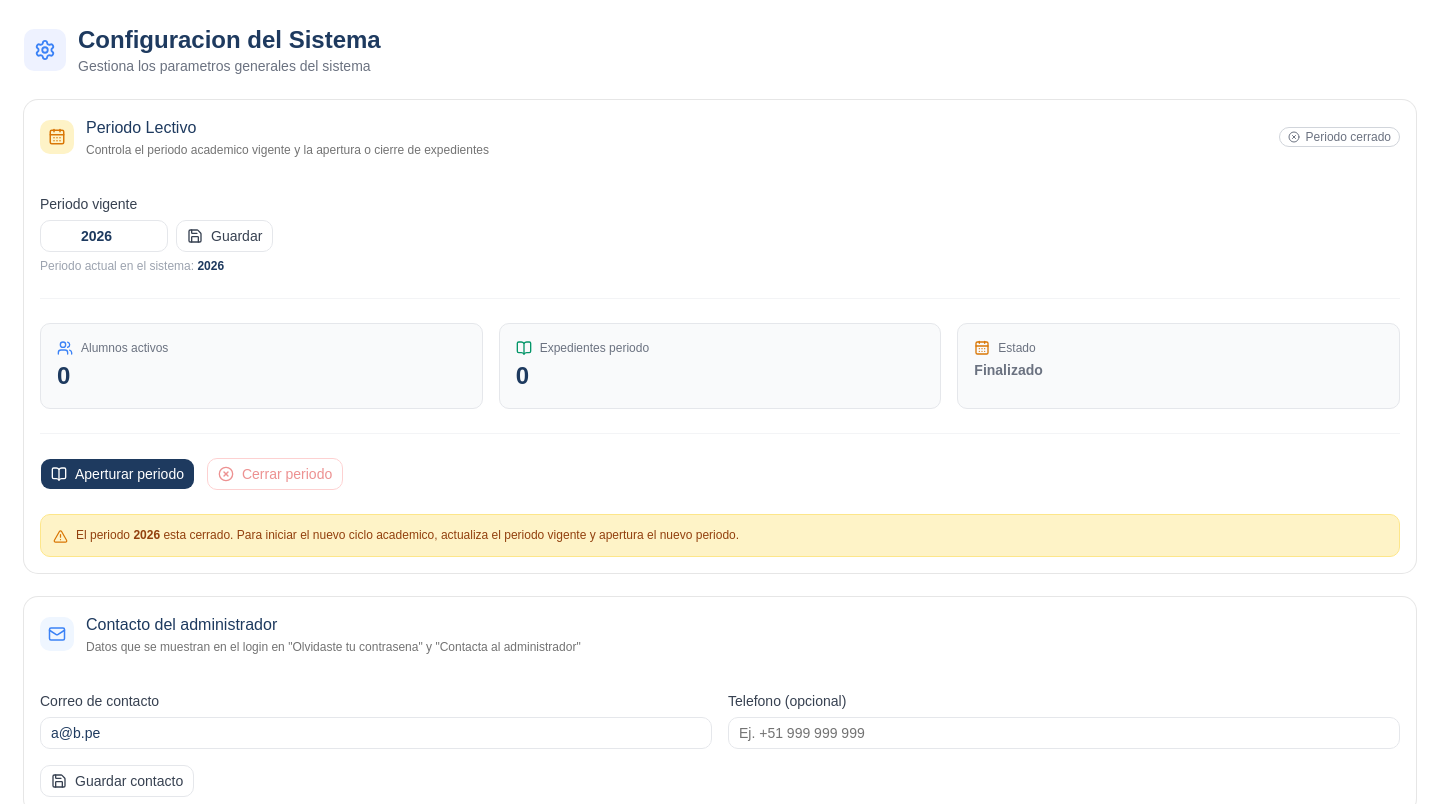
Test: AdminConfig — apertura reporta los omitidos › avisa cuando algunos alumnos quedaron afuera
Click the button "Aperturar periodo": (118, 474) [40,458,195,490]
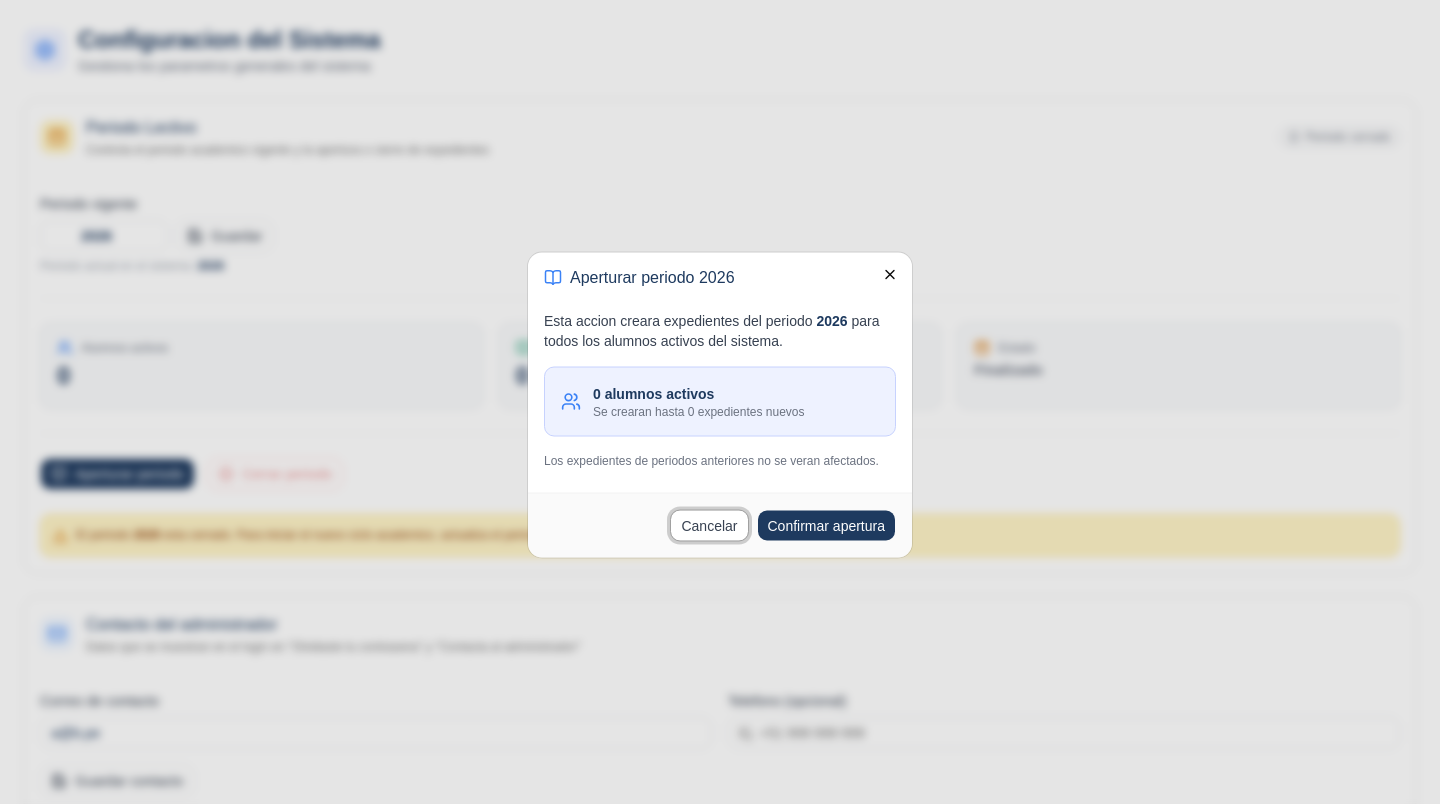
Click the button "Confirmar apertura": (826, 526) [756,510,896,542]
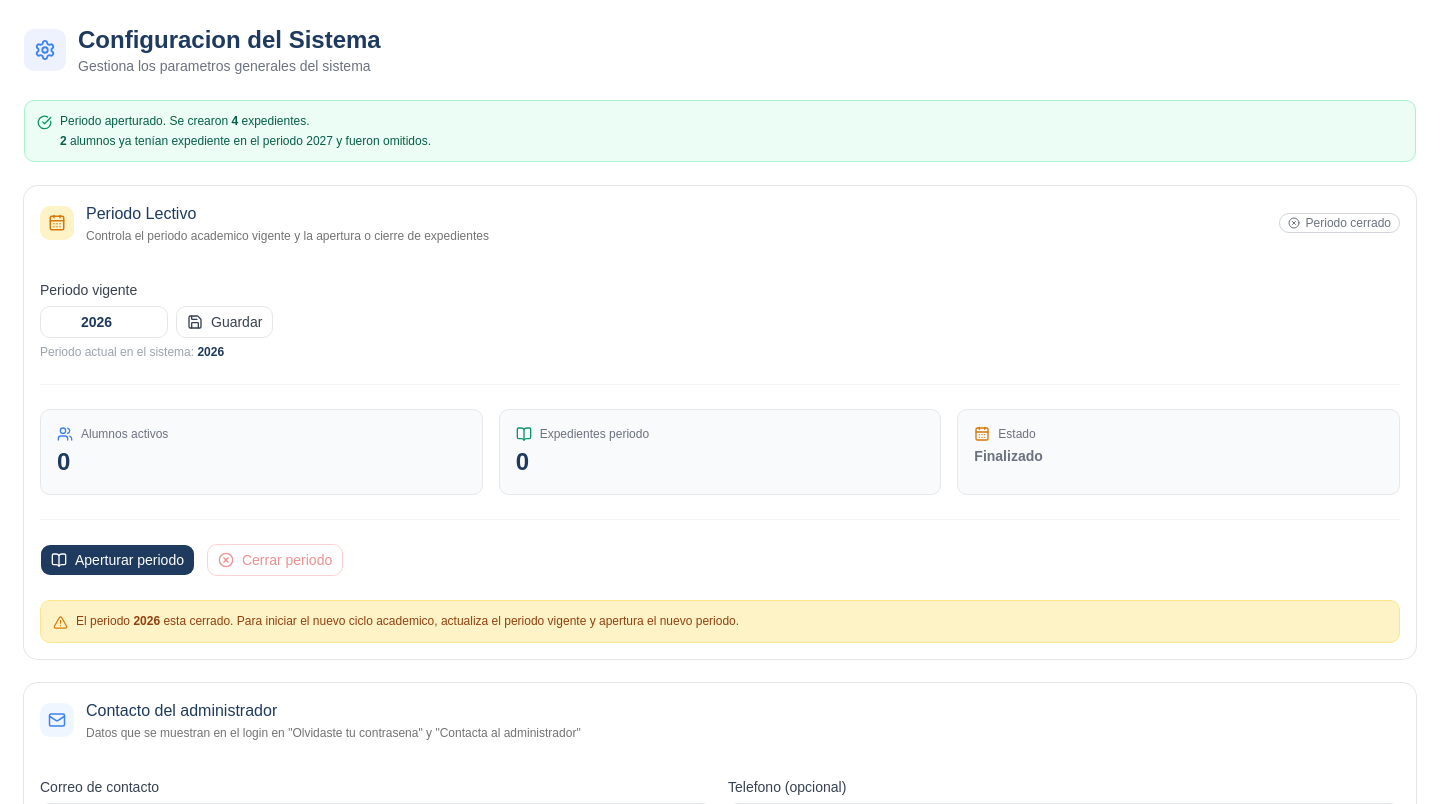
Now the text "Periodo aperturado. Se crearon 4 expedientes." is shown, box [60,114,310,128]
Now the text "alumnos ya tenían" is shown, box [70,134,168,148]
Now the text "fueron omitidos" is shown, box [346,134,428,148]
